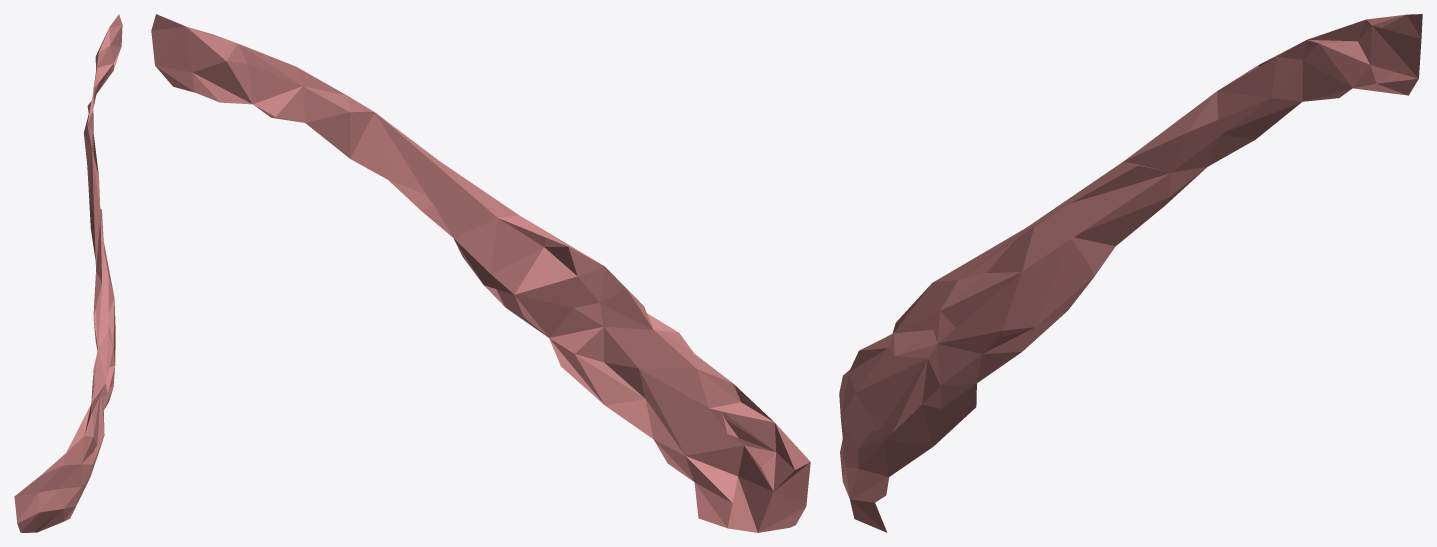
Rendered from Abdominal_part_of_pectoralis_major_muscle.l.glb.
3 renders of one model, left to right at view 1: azimuth 30°, elevation 25°; view 2: azimuth 150°, elevation 25°; view 3: azimuth 270°, elevation 25°, orthographic. The views are drawn at different scales.
Visible parts, largest first — view 1: Abdominal_part_of_pectoralis_major_muscle.l; view 2: Abdominal_part_of_pectoralis_major_muscle.l; view 3: Abdominal_part_of_pectoralis_major_muscle.l.
Part boxes in pixels (box(x1,y1,x2,y2)): Abdominal_part_of_pectoralis_major_muscle.l: box(14, 14, 122, 532); Abdominal_part_of_pectoralis_major_muscle.l: box(151, 14, 810, 532); Abdominal_part_of_pectoralis_major_muscle.l: box(839, 14, 1422, 532).
Bounding box in the file's own units: 0.1261 × 0.1722 × 0.1283.
